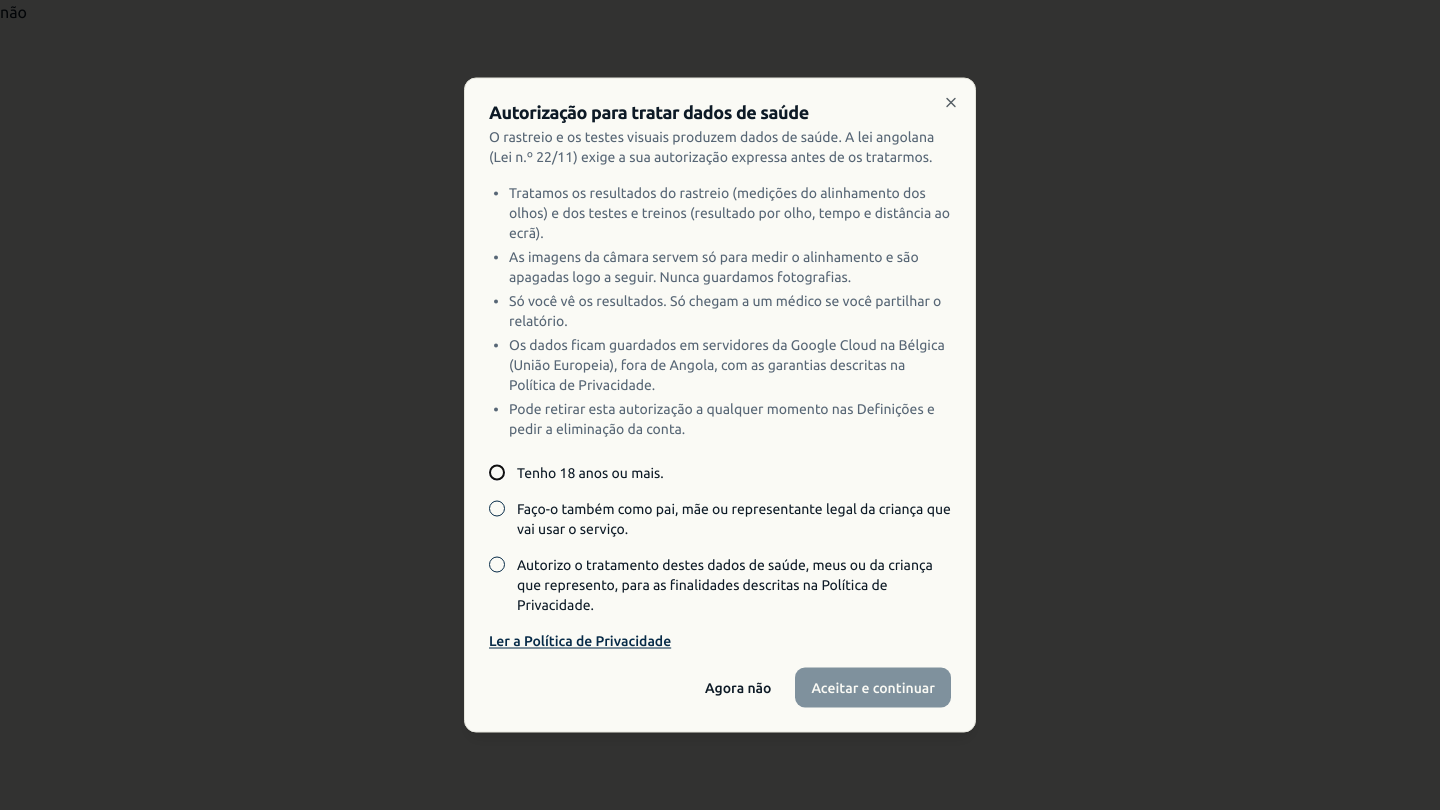
ConsentimentoSaudeContext (Lei 22/11, dados de saúde) › não deixa aceitar sem declarar a maioridade e autorizar
Expected: the text with test id "estado" reads "não", [0,3,27,21]
Expected: the button "Aceitar e continuar" is disabled, [796,668,951,708]
Click the text "Tenho 18 anos ou mais.".
click(590, 472)  # box [517,462,664,482]
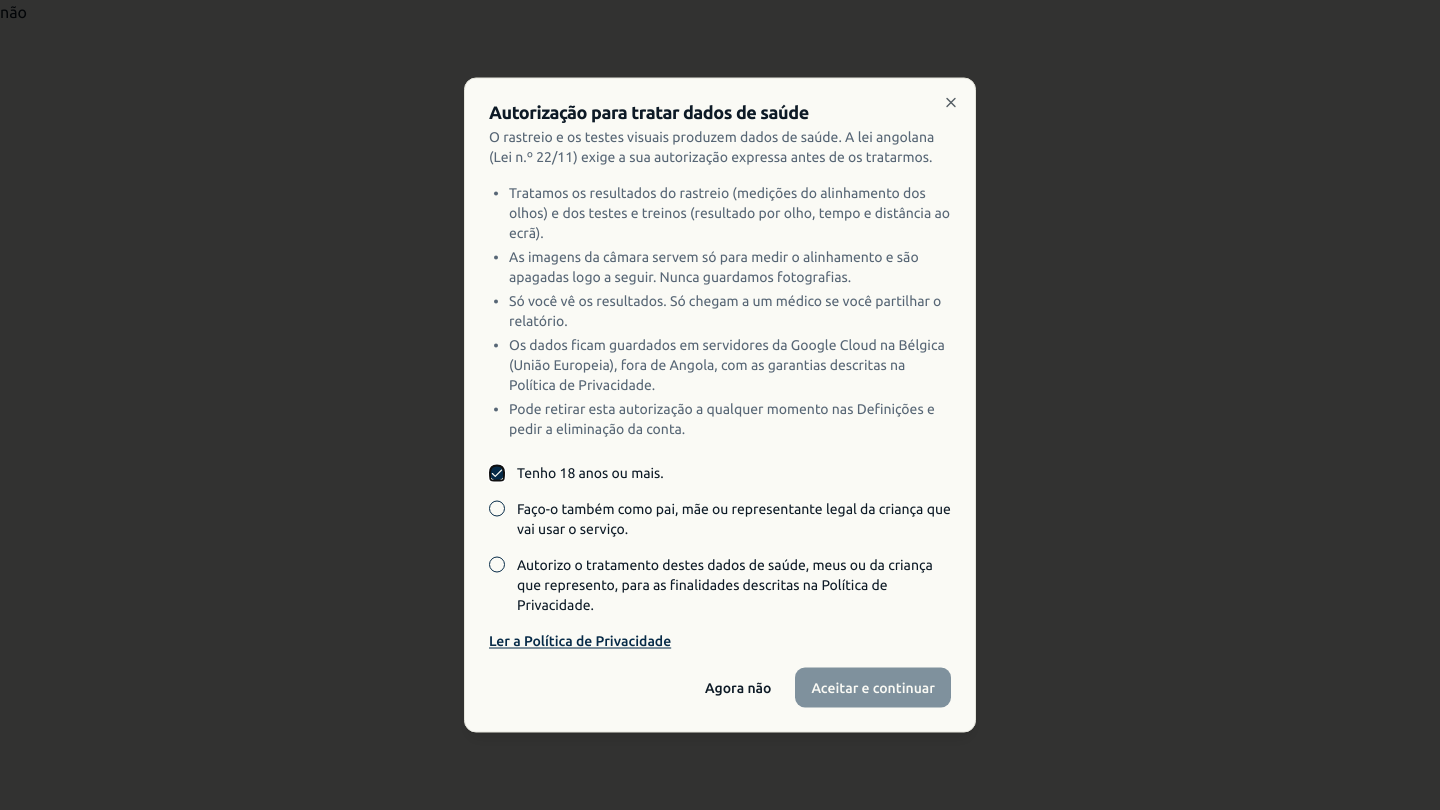
Expected: the button "Aceitar e continuar" is disabled, [796,668,951,708]
Click the text "Autorizo o tratamento destes dados de saúde, meus ou da criança que represento, para as finalidades descritas na Polític".
click(734, 584)  # box [517,554,951,614]
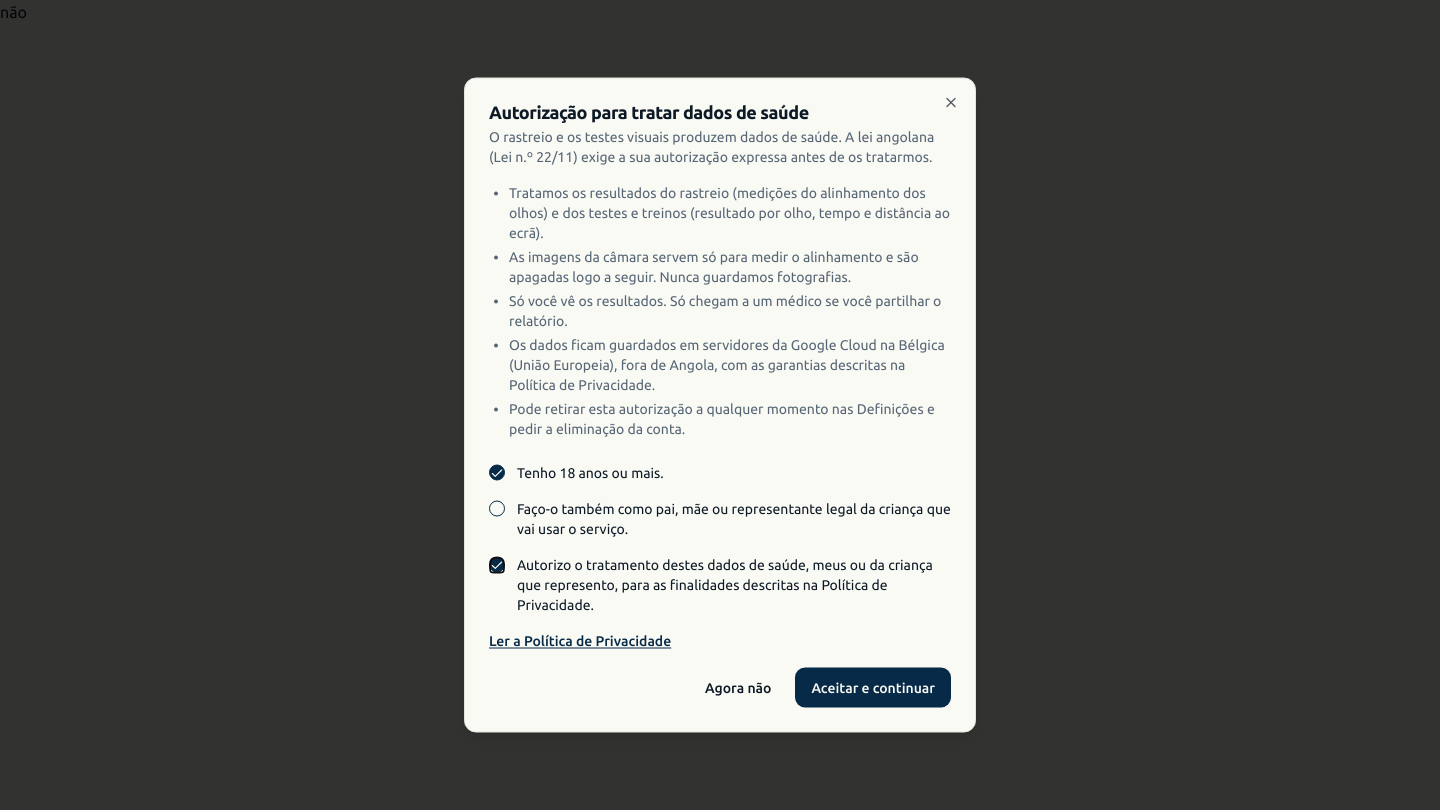
Expected: the button "Aceitar e continuar" is enabled, [796,668,951,708]
